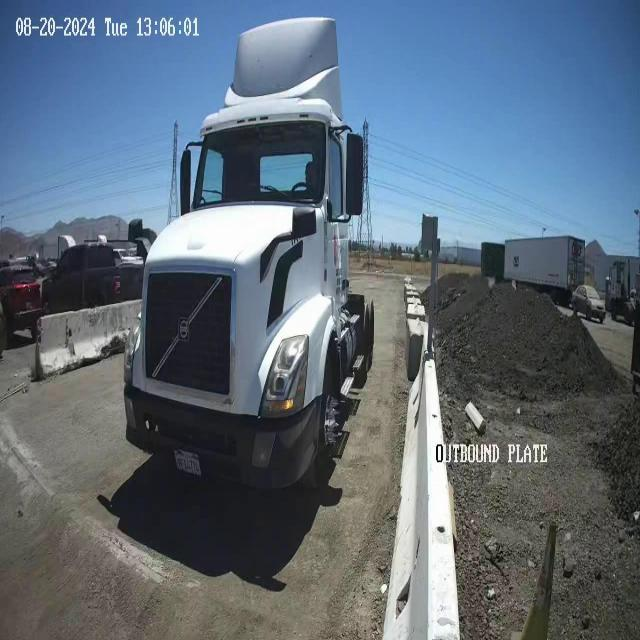TRUCK_OUT: (122, 15, 376, 493)
